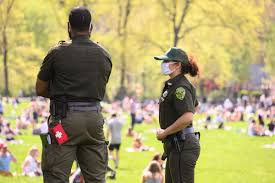Caution: (35, 6, 201, 183)
